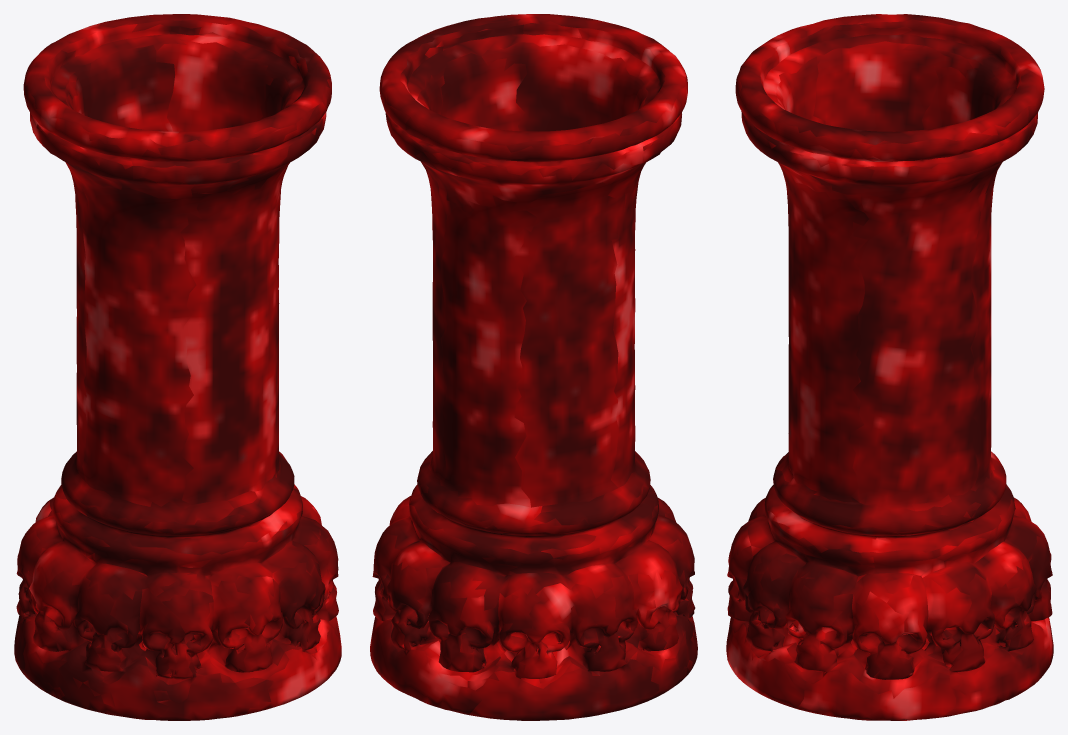
File: COL3A0.obj
3 views of the same model, side by side, from view 1: azimuth 30°, elevation 25°; view 2: azimuth 150°, elevation 25°; view 3: azimuth 270°, elevation 25° (orthographic).
Size of the model in its own units: 0.5156 by 1 by 0.5159.
1 material, 1 textured.
